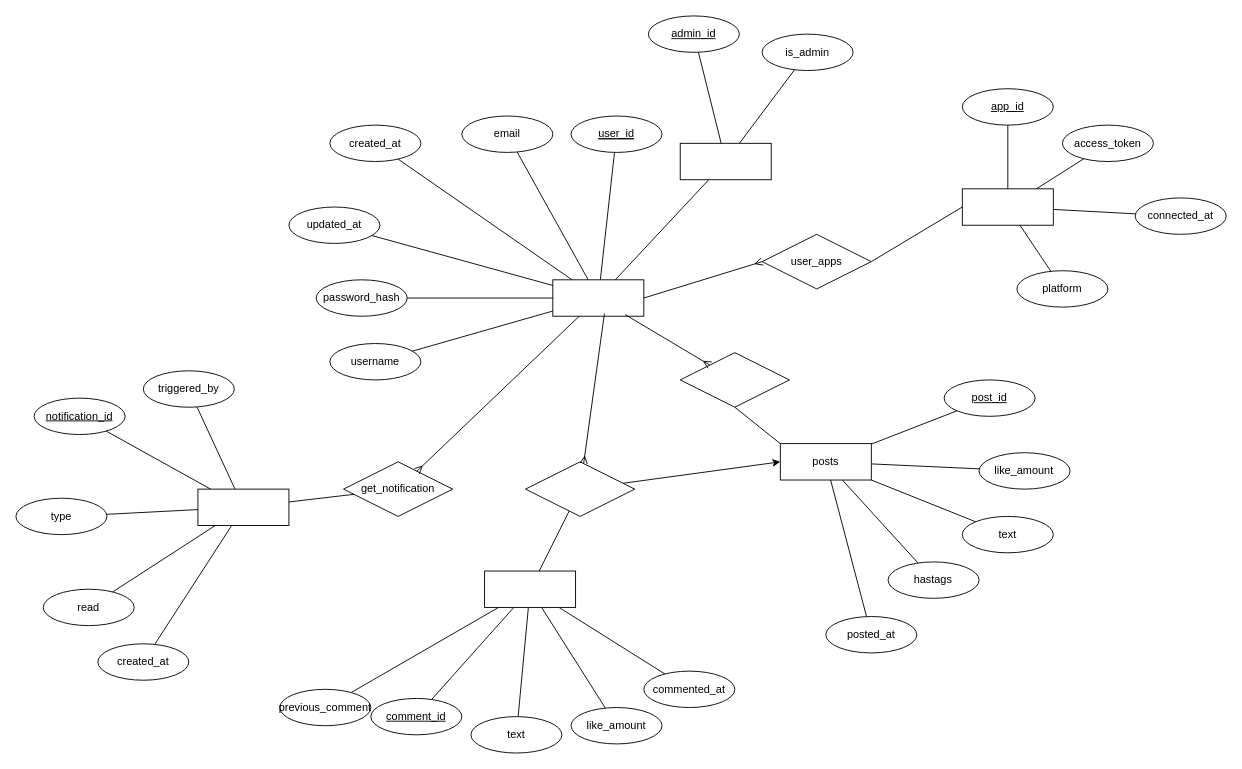
This 1242x769 diagram has some shape labels left out. Here are the shapes that lost their labels. From the top down, the centre of each, then its label:
At (725,161): "admin".
At (1007,206): "connected_apps".
At (598,297): "user".
At (734,379): "user_posts".
At (243,507): "notifications".
At (580,488): "user_post_comment".
At (530,588): "comments".
